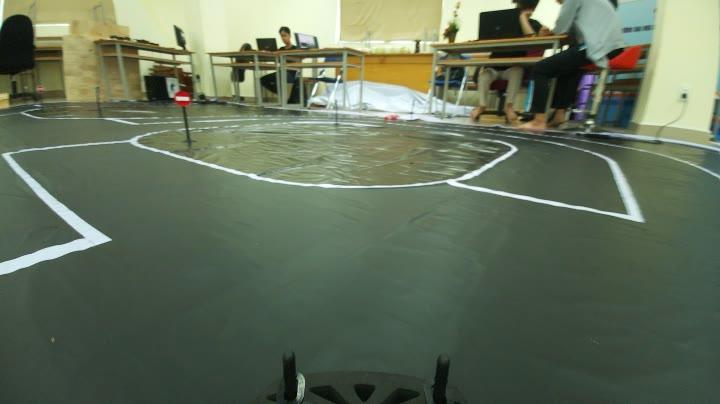no_entry: (170, 88, 195, 111)
